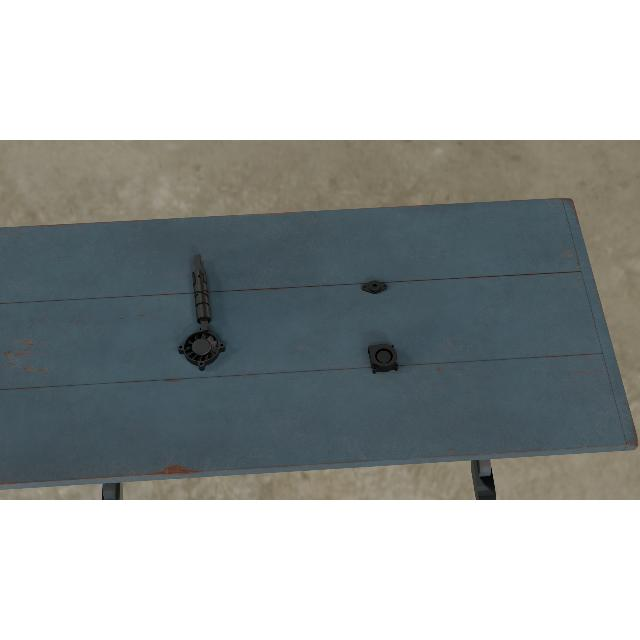Pieza1: (190, 252, 212, 336)
Pieza2: (362, 280, 388, 294)
Pieza3: (368, 342, 400, 374)
Pieza4: (176, 325, 228, 373)
